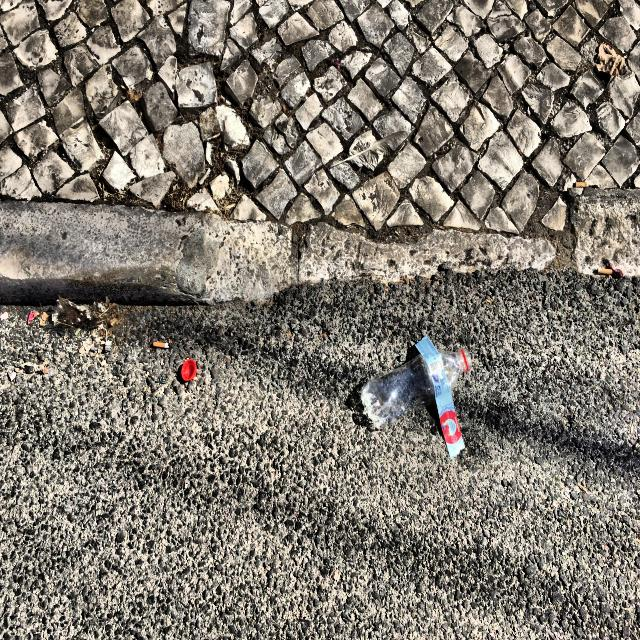Bottles: (358, 331, 480, 435)
